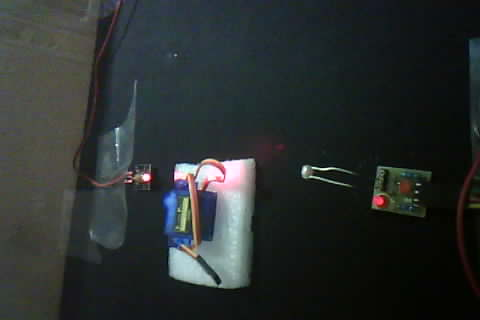motor: (160, 158, 257, 286)
